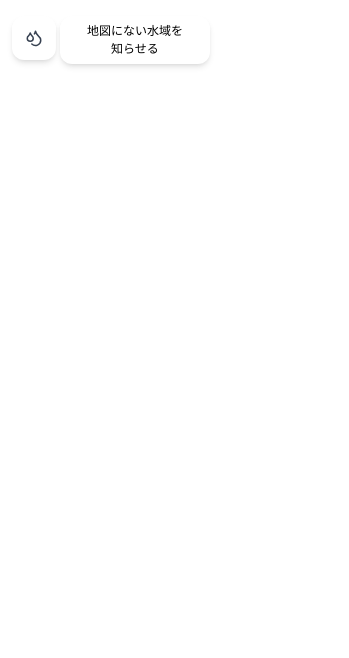
Test: 水域から選択・調査・情報提供 › 公開記録の不完全取得とcommunity取得失敗を0件扱いせず、OSM表示を維持する
The image size is (349, 658).
Click the button named "近くの水域を探す". click: (34, 38)
box: [12,16,56,60]
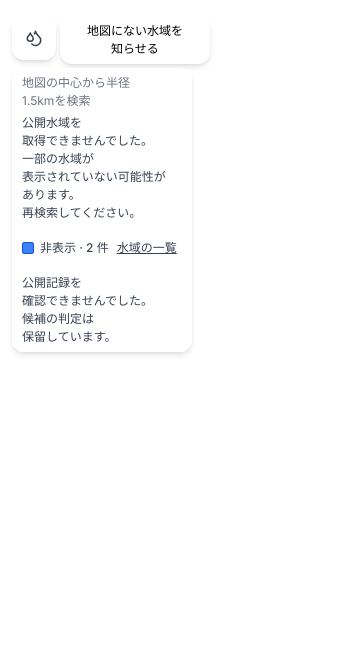
Expected: the text "公開記録を確認できませんでした。候補の判定は保留しています。" is shown, [22,275,153,344]
Click the button "水域の一覧". click: (147, 248)
box: [117,226,177,270]
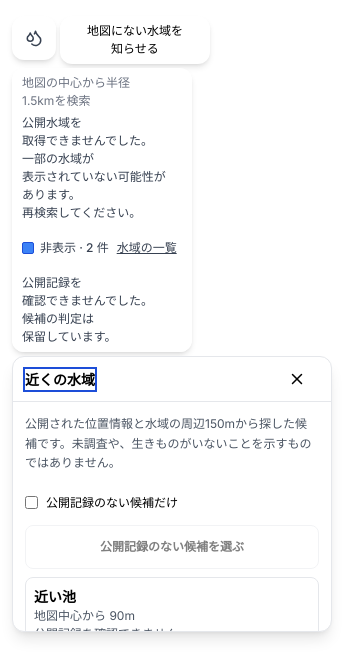
Expected: the button "公開記録のない候補を選ぶ" is disabled, [25,524,319,568]
Click the checkbox labelled "公開記録のない候補だけ". click: (32, 502)
box: [25,496,38,509]
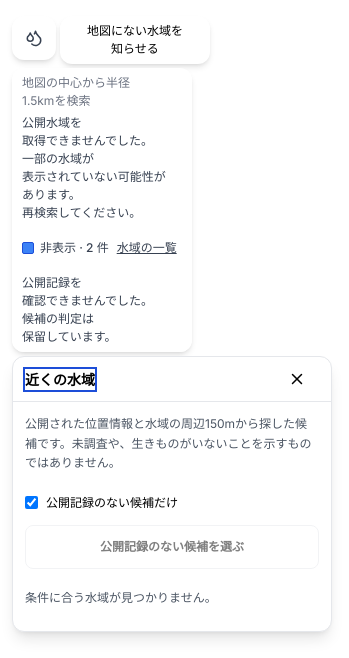
Expected: the text "条件に合う水域が見つかりません。" is shown, [25,590,217,604]
